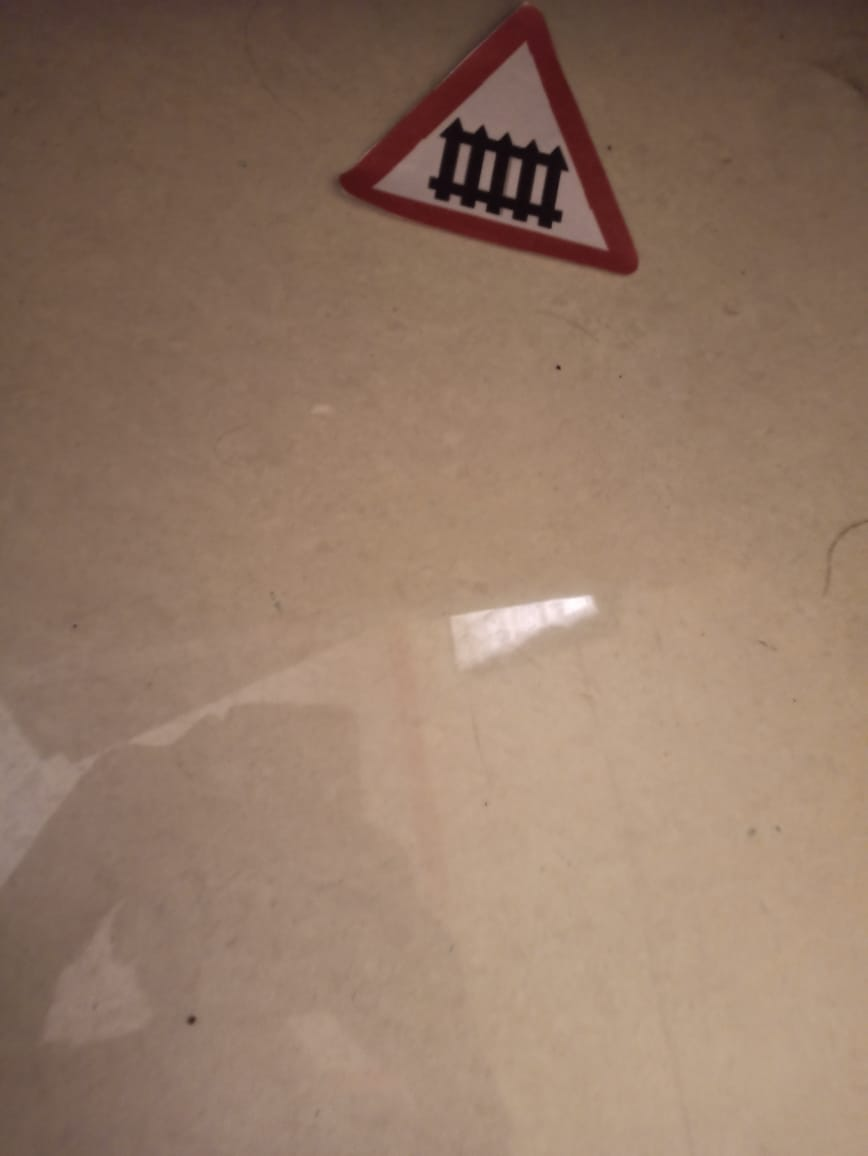GUARDED LEVEL CROSSING: (326, 1, 662, 288)
